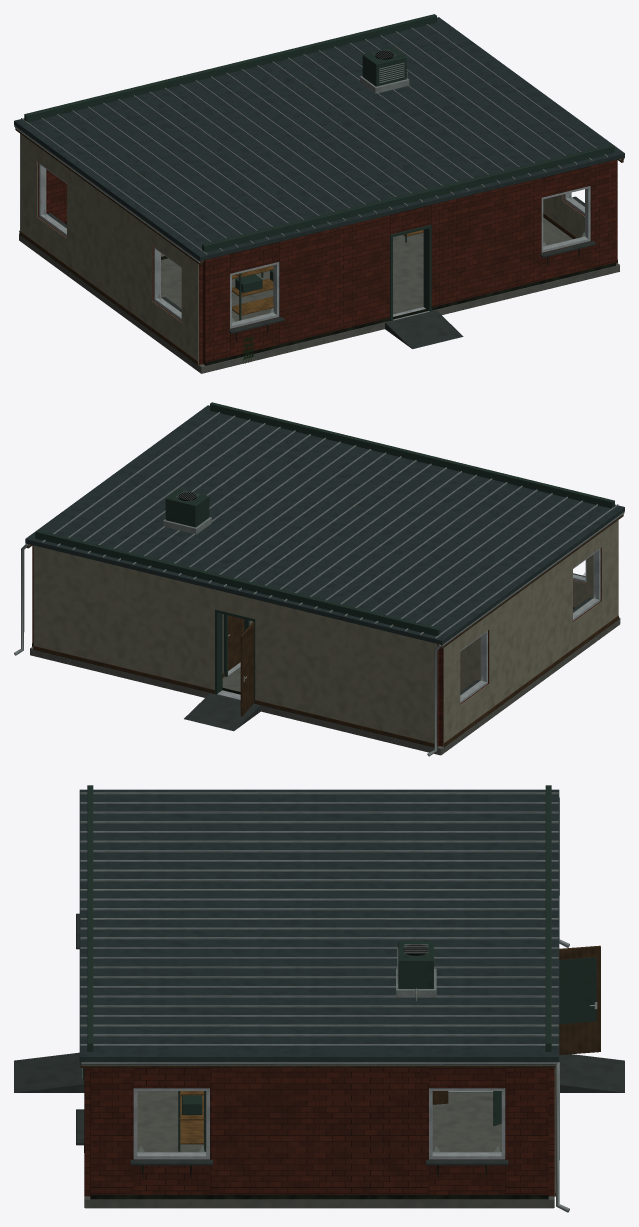
The model's file is GR05_02_RoadsideStore.glb.
3 views of the same model, one above another, from view 1: azimuth 30°, elevation 25°; view 2: azimuth 150°, elevation 25°; view 3: azimuth 270°, elevation 25° (orthographic). The views are drawn at different scales.
Parts seen in each view (by area): view 1: Static; view 2: Static, Door_01, Door_00; view 3: Static, Door_01.
Part boxes in pixels (x1,y1,x2,y2): Static: [14, 14, 624, 373]; Static: [14, 402, 624, 756]; Door_01: [240, 622, 254, 716]; Door_00: [228, 615, 244, 670]; Static: [14, 785, 624, 1212]; Door_01: [559, 945, 600, 1054].
Bounding box in the file's own units: 12.66 × 4.17 × 12.
17 materials, 15 textured.
